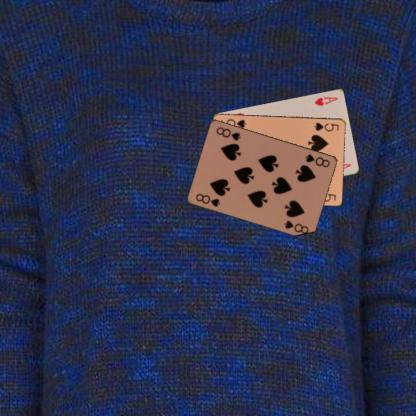5s: (312, 120, 340, 133)
8s: (303, 151, 331, 169), (194, 191, 221, 208)
Ah: (312, 93, 339, 107)
